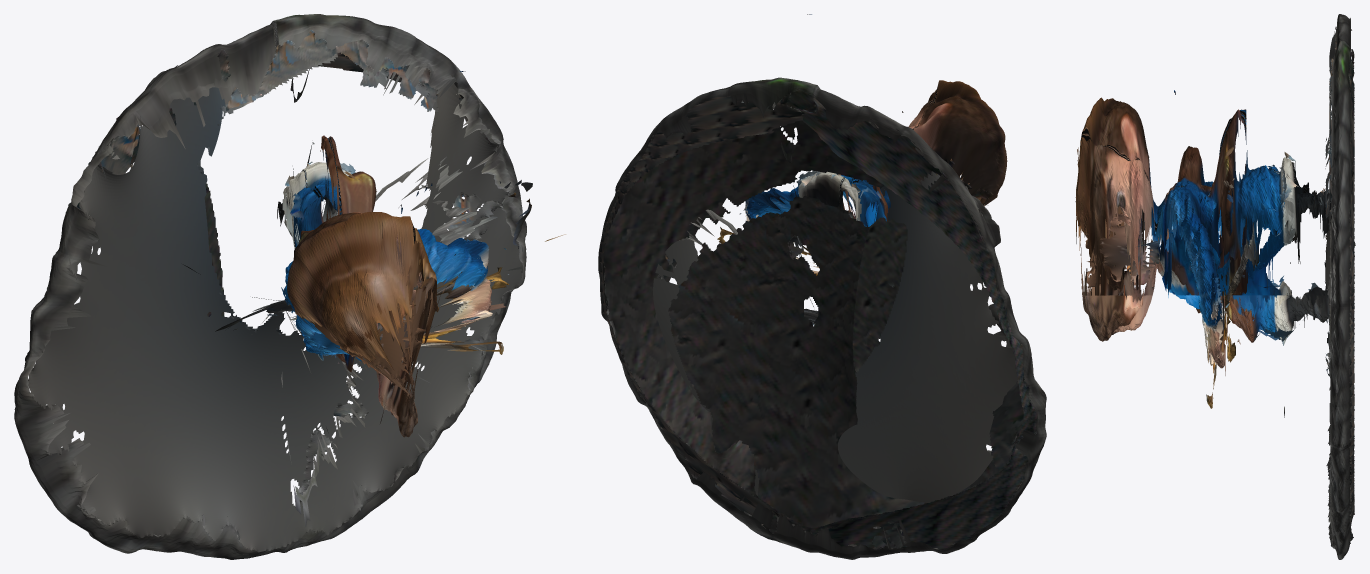
The model's file is mesh_inpaint.glb.
3 renders of one model, left to right at view 1: azimuth 30°, elevation 25°; view 2: azimuth 150°, elevation 25°; view 3: azimuth 270°, elevation 25°, orthographic. The views are drawn at different scales.
Parts seen in each view (by area): view 1: fill, ipn; view 2: fill, ipn; view 3: ipn, fill.
Part boxes in pixels (x1,y1,x2,y2): fill: (14,30,522,552); ipn: (14,14,565,559); fill: (599,89,1038,550); ipn: (598,14,1046,559); ipn: (1075,14,1350,559); fill: (1077,26,1355,547).
Bounding box in the file's own units: 1.87 × 1.86 × 0.9583.
Materials: 2 (1 with a texture image).
